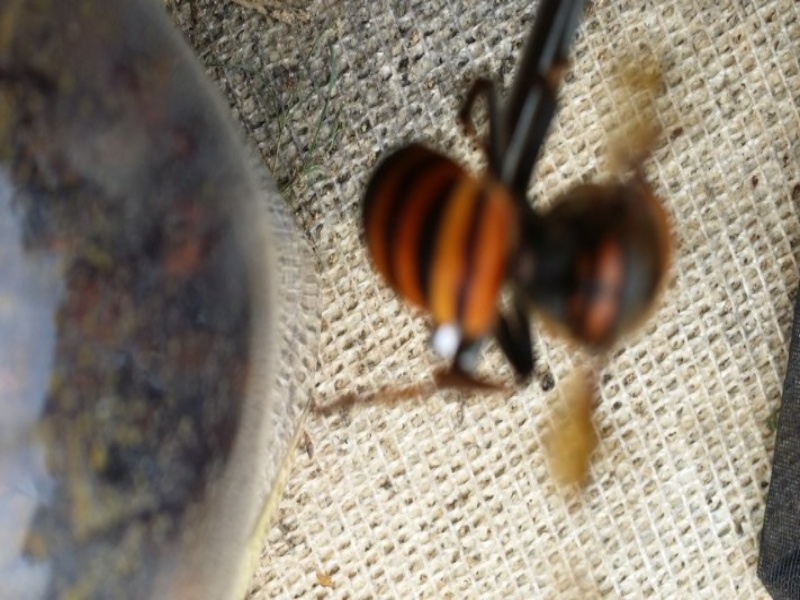asian_giant_hornet: (353, 138, 684, 393)
